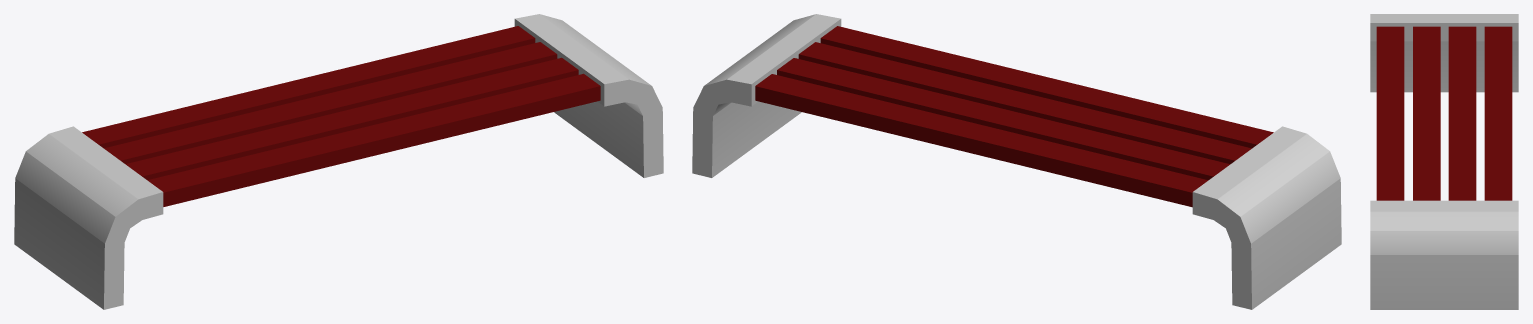
Rendered from Parkbench-04.fbx.
3 renders of one model, left to right at view 1: azimuth 30°, elevation 25°; view 2: azimuth 150°, elevation 25°; view 3: azimuth 270°, elevation 25°, orthographic. The views are drawn at different scales.
Visible parts, largest first — view 1: Parkbench-04; view 2: Parkbench-04; view 3: Parkbench-04.
Boxes of the visible parts, x1,y1,x2,y2 form: Parkbench-04: [14, 14, 663, 309]; Parkbench-04: [692, 14, 1341, 309]; Parkbench-04: [1370, 14, 1518, 309].
Size of what is drawn, in the model's own units: 2.7 by 0.4766 by 0.7481.
